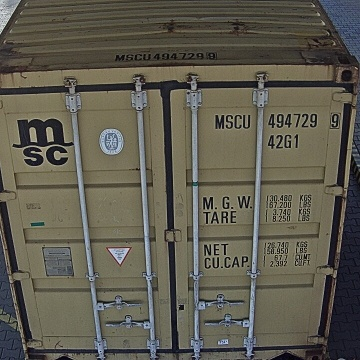serial_id: (215, 112, 340, 128)
